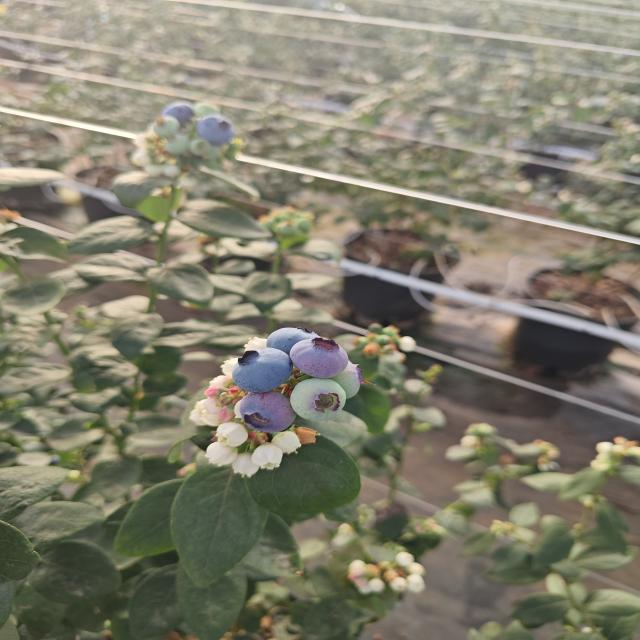ripe: (228, 338, 294, 394), (239, 385, 298, 433), (286, 335, 354, 376), (194, 110, 248, 147), (151, 99, 199, 129), (267, 325, 309, 351)
